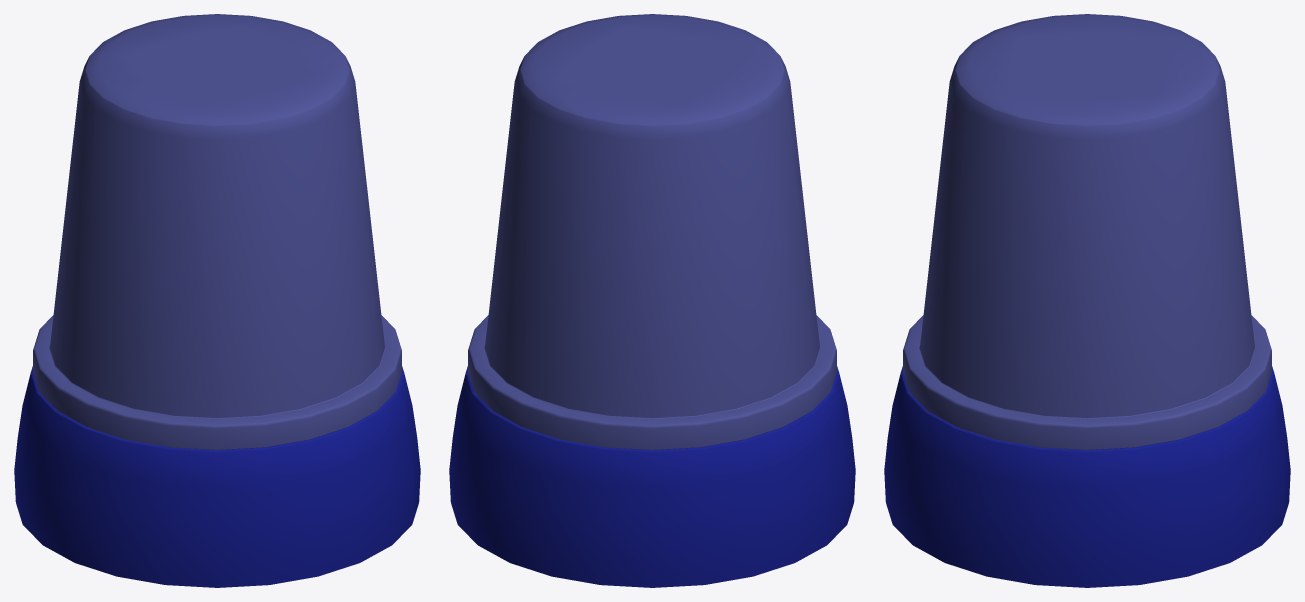
Rendered from gyrophare_low.FBX.
3 renders of one model, left to right at view 1: azimuth 30°, elevation 25°; view 2: azimuth 150°, elevation 25°; view 3: azimuth 270°, elevation 25°, orthographic.
Parts seen in each view (by area): view 1: capot, socle; view 2: capot, socle; view 3: capot, socle.
Boxes of the visible parts, bbox=[...] form: capot: bbox=[33, 14, 401, 450]; socle: bbox=[14, 366, 420, 587]; capot: bbox=[468, 14, 836, 450]; socle: bbox=[449, 366, 855, 587]; capot: bbox=[903, 14, 1271, 450]; socle: bbox=[884, 366, 1290, 587].
Bounding box in the file's own units: 6.05 × 7.18 × 6.05.
